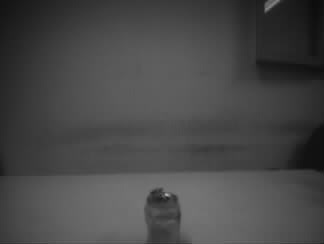Tin can: (144, 187, 182, 244)
